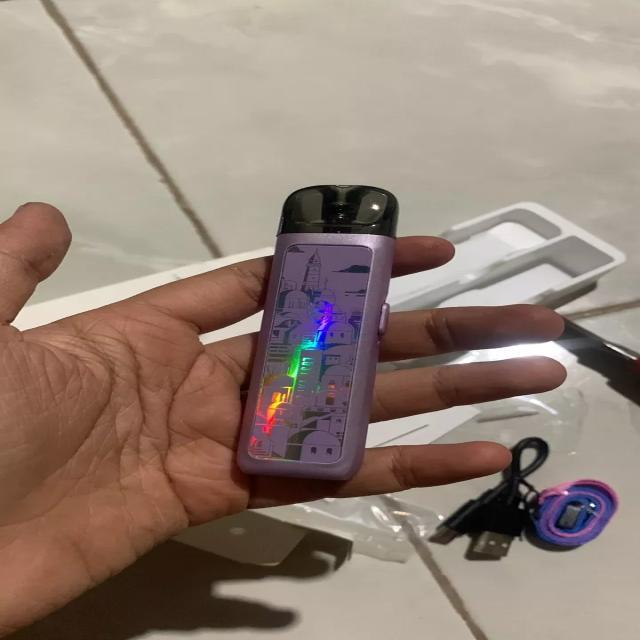Hazard: (237, 182, 400, 484)
